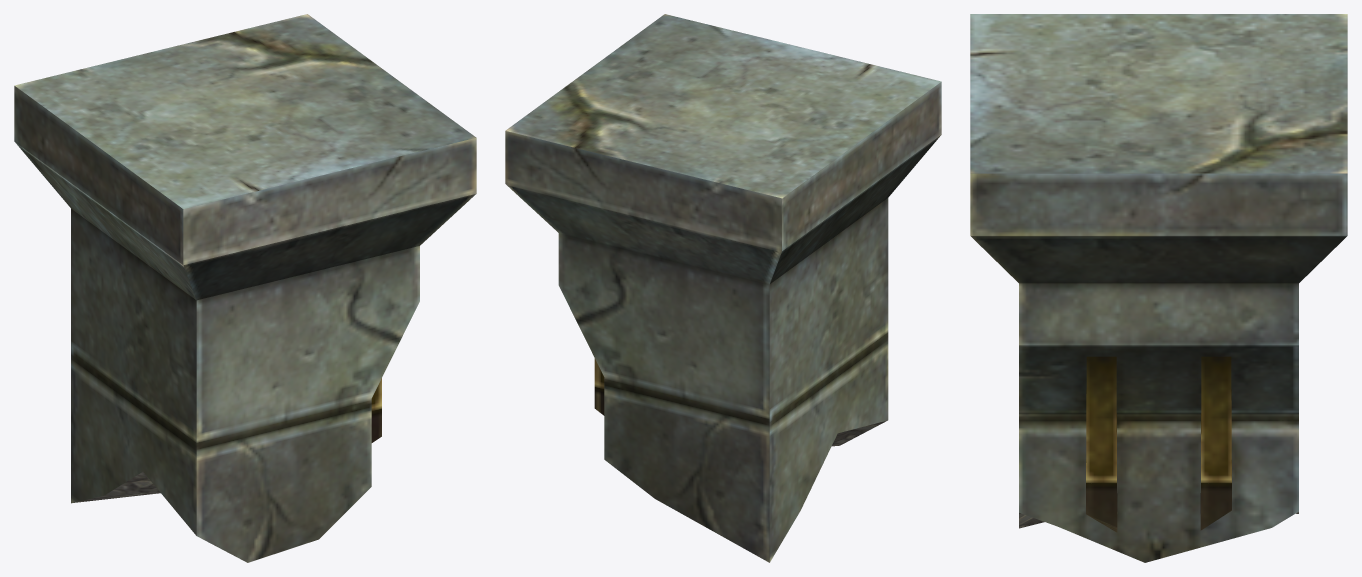
The model's file is F_zhuzi008.fbx.
3 renders of one model, left to right at view 1: azimuth 30°, elevation 25°; view 2: azimuth 150°, elevation 25°; view 3: azimuth 270°, elevation 25°, orthographic. The views are drawn at different scales.
Parts seen in each view (by area): view 1: F_zhuzi008; view 2: F_zhuzi008; view 3: F_zhuzi008.
Boxes of the visible parts, box(x1,y1,x2,y2) form: F_zhuzi008: box(14, 14, 476, 562); F_zhuzi008: box(505, 14, 941, 562); F_zhuzi008: box(970, 14, 1347, 562).
Size of the model in its own units: 63.16 by 84.46 by 63.06.
